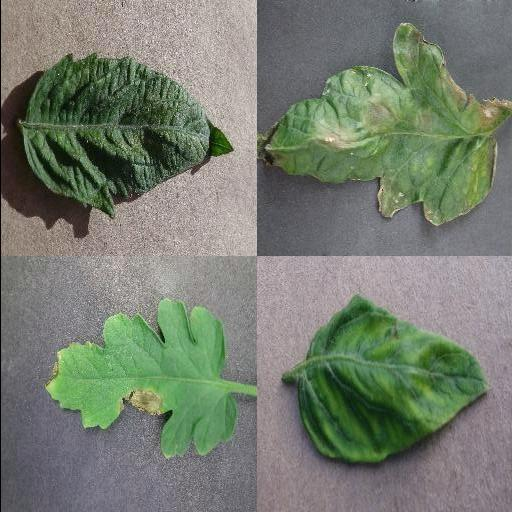Late Blight: (256, 22, 512, 228), (41, 295, 237, 461)
Spider Mites: (21, 51, 237, 219)
Yellow Leaf Curl Virus: (301, 291, 489, 463)
